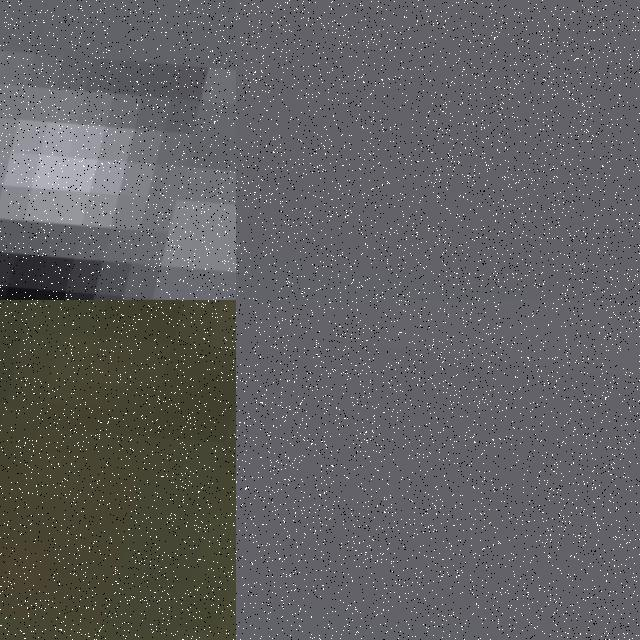0: (0, 0, 236, 300)
drone: (0, 300, 236, 640)
